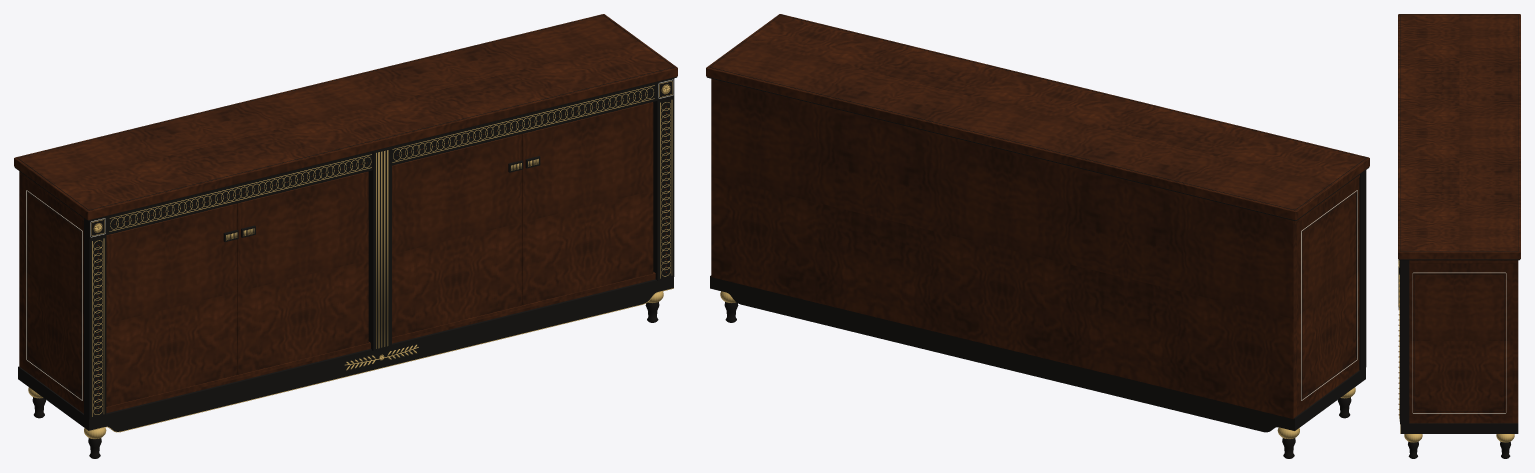
3 renders of one model, left to right at view 1: azimuth 30°, elevation 25°; view 2: azimuth 150°, elevation 25°; view 3: azimuth 270°, elevation 25°, orthographic. The views are drawn at different scales.
Visible parts, largest first — view 1: Nantes four-door sideboard | dining-18 web batch; view 2: Nantes four-door sideboard | dining-18 web batch; view 3: Nantes four-door sideboard | dining-18 web batch.
Boxes of the visible parts, x1,y1,x2,y2 form: Nantes four-door sideboard | dining-18 web batch: (14,14,677,458); Nantes four-door sideboard | dining-18 web batch: (706,14,1369,458); Nantes four-door sideboard | dining-18 web batch: (1398,14,1520,458).
Size of the model in its own units: 2.39 by 0.9911 by 0.5201.
Materials: 7 (2 with a texture image).
